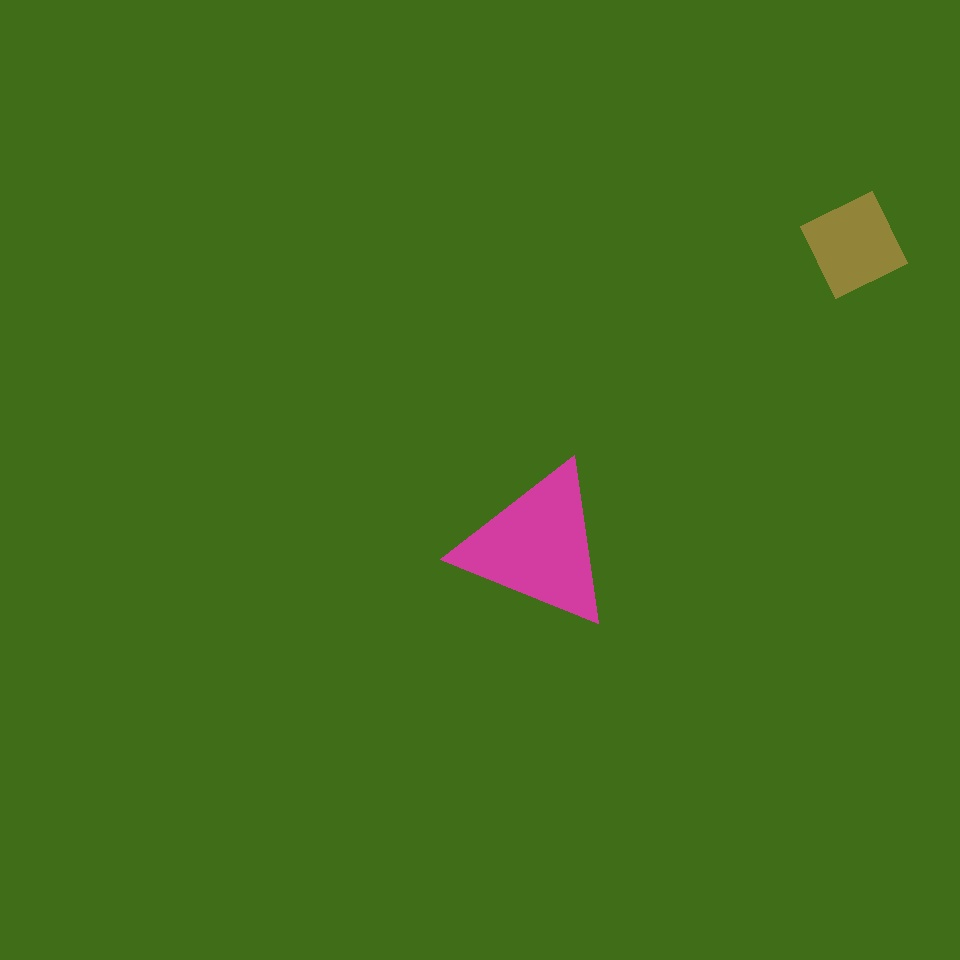circle: (697, 711, 858, 878), (459, 462, 617, 630)
square: (800, 192, 908, 298)
triangle: (500, 291, 771, 562)
